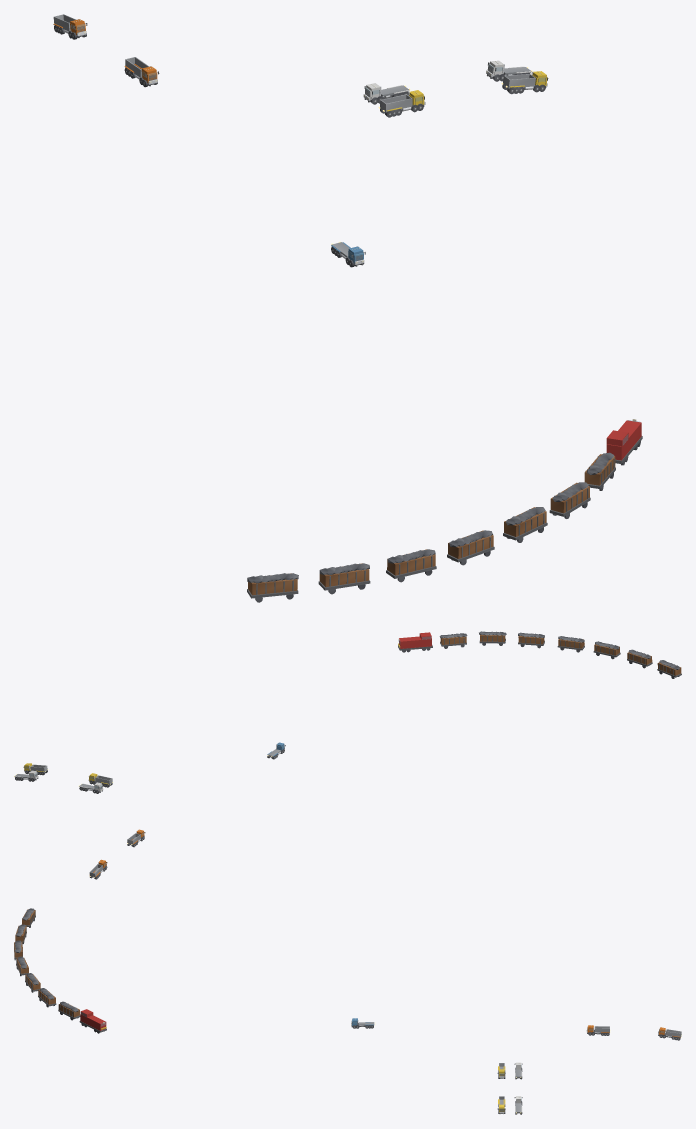
The model's file is Vehicles_P3.fbx.
The picture shows the model from 3 angles, top to bottom: view 1: azimuth 30°, elevation 25°; view 2: azimuth 150°, elevation 25°; view 3: azimuth 270°, elevation 25°; orthographic projection. The views are drawn at different scales.
Visible parts, largest first — view 1: wagon.005, wagon.006, wagon.004, train, wagon.003, wagon.002, wagon.001; view 2: train; view 3: train.
Boxes of the visible parts, x1,y1,x2,y2 form: wagon.005: (318, 563, 370, 594); wagon.006: (247, 573, 298, 602); wagon.004: (386, 549, 436, 582); train: (606, 419, 642, 465); wagon.003: (447, 530, 494, 565); wagon.002: (503, 507, 547, 542); wagon.001: (549, 482, 590, 518); train: (398, 632, 432, 652); train: (79, 1009, 106, 1033).
Bounding box in the file's own units: 18933 × 965 × 28458.
